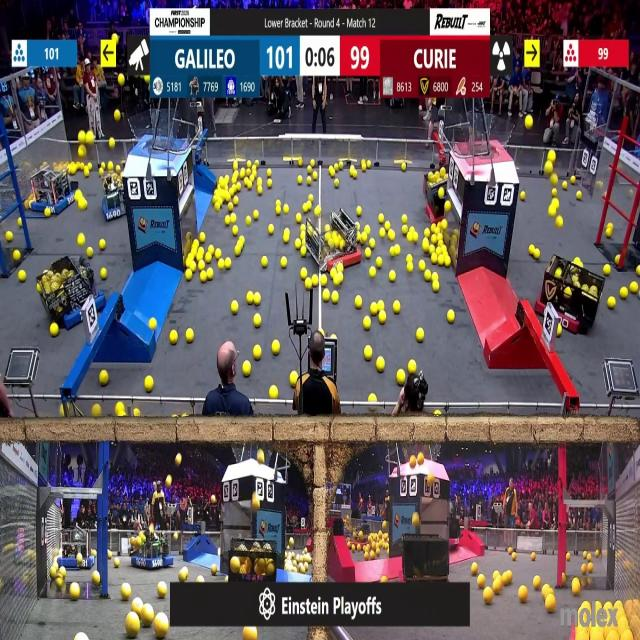ball_airborne: (252, 494, 260, 510), (256, 450, 264, 465), (525, 114, 533, 128), (77, 235, 85, 247), (87, 132, 95, 144), (78, 145, 86, 157), (546, 150, 554, 161), (78, 132, 85, 144), (411, 456, 418, 468), (78, 200, 86, 210), (175, 454, 182, 465), (117, 74, 124, 85), (109, 138, 116, 149), (111, 33, 118, 44), (166, 477, 172, 488), (114, 110, 120, 121), (143, 75, 150, 84), (418, 454, 424, 464)
ball_ground: (127, 615, 141, 638), (156, 616, 170, 639), (142, 606, 153, 625), (120, 585, 130, 602), (70, 584, 80, 600), (544, 596, 554, 612), (484, 589, 494, 605), (144, 377, 154, 392), (492, 582, 502, 595), (244, 360, 252, 376), (520, 587, 528, 603), (572, 581, 580, 597), (377, 357, 386, 371), (159, 584, 168, 598), (100, 372, 109, 386), (502, 570, 511, 584), (115, 404, 124, 418), (272, 341, 280, 356), (49, 323, 58, 336), (93, 406, 102, 419), (185, 328, 193, 342), (289, 373, 297, 387), (396, 372, 404, 386), (630, 282, 639, 294), (170, 332, 178, 345), (416, 328, 424, 341), (232, 302, 240, 315), (253, 346, 261, 359), (409, 360, 417, 373), (364, 346, 372, 359), (422, 240, 430, 253), (448, 310, 455, 324), (479, 574, 486, 588), (413, 514, 420, 528), (270, 386, 278, 398), (330, 290, 338, 302), (253, 314, 261, 326), (369, 304, 377, 316), (179, 568, 187, 580), (322, 289, 330, 301), (621, 287, 629, 299), (546, 162, 554, 174), (363, 316, 370, 329), (533, 575, 540, 588), (185, 254, 192, 267), (100, 269, 108, 280), (393, 302, 400, 314), (379, 312, 386, 324), (355, 296, 362, 308), (608, 296, 615, 308), (431, 280, 438, 292), (253, 292, 260, 304), (94, 571, 101, 583), (133, 600, 140, 612), (445, 257, 453, 267), (557, 215, 563, 228), (320, 276, 327, 287), (299, 269, 306, 280), (470, 563, 477, 574), (386, 244, 393, 255), (69, 165, 76, 176), (281, 256, 287, 268), (201, 272, 207, 284), (247, 291, 253, 303), (312, 275, 318, 287), (534, 248, 540, 260), (550, 206, 556, 218), (338, 274, 344, 286), (234, 183, 242, 192), (235, 246, 242, 256), (419, 262, 426, 272), (88, 247, 95, 257), (200, 234, 207, 244), (368, 392, 375, 402), (389, 272, 396, 282), (199, 262, 206, 272), (363, 248, 370, 258), (306, 280, 313, 290), (205, 252, 212, 262), (439, 256, 446, 266), (579, 564, 586, 574), (361, 232, 368, 242), (185, 270, 191, 281), (269, 223, 275, 234), (604, 266, 610, 277), (284, 233, 290, 244), (263, 256, 269, 267), (150, 318, 156, 329), (233, 224, 239, 235), (528, 245, 534, 256), (616, 255, 622, 266), (199, 248, 205, 259), (218, 176, 224, 187), (75, 634, 86, 640), (380, 230, 387, 239), (433, 244, 440, 253), (100, 240, 106, 250), (18, 272, 24, 282), (369, 268, 375, 278), (215, 248, 221, 258), (408, 264, 414, 274), (394, 245, 400, 255), (425, 272, 431, 282), (377, 256, 382, 268), (208, 270, 214, 280), (224, 260, 230, 270), (299, 247, 305, 257), (388, 231, 394, 241), (401, 224, 407, 234), (60, 566, 66, 576), (83, 168, 89, 178), (218, 260, 224, 270), (431, 254, 437, 264), (556, 326, 562, 336), (231, 214, 237, 224), (246, 216, 252, 226), (552, 176, 558, 186), (214, 202, 220, 212), (351, 168, 357, 178), (605, 229, 611, 239), (588, 562, 594, 572), (408, 233, 414, 243), (190, 263, 196, 273), (443, 220, 449, 230), (13, 251, 19, 261), (232, 174, 238, 184), (596, 600, 602, 610), (430, 235, 436, 245), (552, 200, 559, 208), (413, 234, 420, 242), (223, 176, 230, 184), (315, 207, 321, 216), (276, 207, 282, 216), (6, 233, 12, 242), (356, 207, 362, 216), (283, 204, 289, 213), (294, 240, 300, 249), (379, 214, 385, 223), (58, 577, 64, 586), (328, 168, 334, 177), (253, 211, 259, 220), (240, 169, 246, 178), (76, 189, 82, 198), (542, 585, 548, 594), (330, 270, 336, 279), (238, 237, 244, 246), (212, 564, 217, 574), (225, 215, 230, 225), (561, 572, 566, 582), (252, 168, 257, 178), (379, 302, 385, 310), (114, 560, 120, 568), (570, 176, 576, 184), (562, 182, 568, 190), (134, 410, 140, 418), (431, 273, 437, 281), (424, 230, 430, 238), (44, 209, 50, 217), (256, 178, 262, 186), (234, 198, 240, 206), (299, 223, 305, 231), (566, 554, 572, 562), (430, 224, 436, 232), (288, 537, 294, 545), (363, 553, 369, 561), (410, 225, 416, 233), (521, 190, 526, 199), (269, 179, 274, 188), (553, 187, 558, 196), (304, 204, 309, 213), (244, 177, 249, 186), (108, 163, 113, 172), (234, 162, 239, 171), (336, 179, 341, 188), (208, 246, 214, 253), (195, 575, 201, 582), (382, 575, 388, 582), (276, 201, 282, 208), (115, 166, 121, 173), (296, 213, 300, 223), (369, 240, 374, 248), (401, 215, 406, 223), (227, 204, 232, 212), (531, 553, 536, 561), (257, 186, 262, 194), (268, 170, 273, 178), (100, 169, 105, 177), (385, 221, 390, 229), (308, 177, 313, 185), (636, 268, 640, 278), (408, 254, 413, 262), (308, 167, 313, 175), (313, 172, 318, 180), (299, 233, 304, 241), (576, 190, 580, 199), (364, 225, 369, 232), (400, 165, 405, 172), (588, 554, 593, 561), (507, 546, 512, 553), (61, 411, 66, 418), (297, 176, 301, 184), (17, 218, 21, 226), (108, 552, 112, 560), (248, 181, 252, 189), (320, 328, 324, 336), (366, 162, 370, 170), (435, 412, 440, 418), (596, 551, 600, 558), (307, 196, 311, 202), (513, 554, 517, 560), (297, 162, 301, 168), (224, 575, 227, 582), (218, 551, 221, 557)
goal: (460, 119, 516, 158), (129, 116, 186, 151)
robot_blue: (37, 254, 101, 332), (29, 164, 74, 214), (130, 530, 173, 571), (58, 527, 96, 568), (99, 169, 125, 221)
robot_red: (541, 258, 600, 334), (402, 528, 451, 604), (310, 215, 364, 269), (424, 167, 456, 223)
